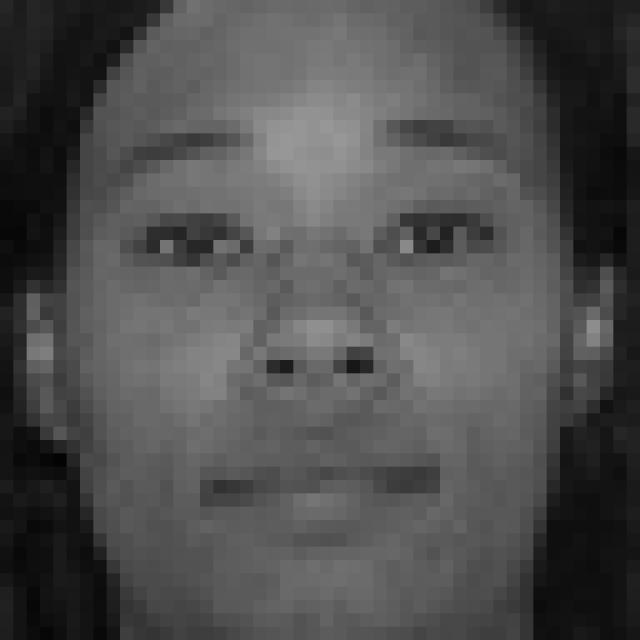neutral: (108, 106, 540, 564)
